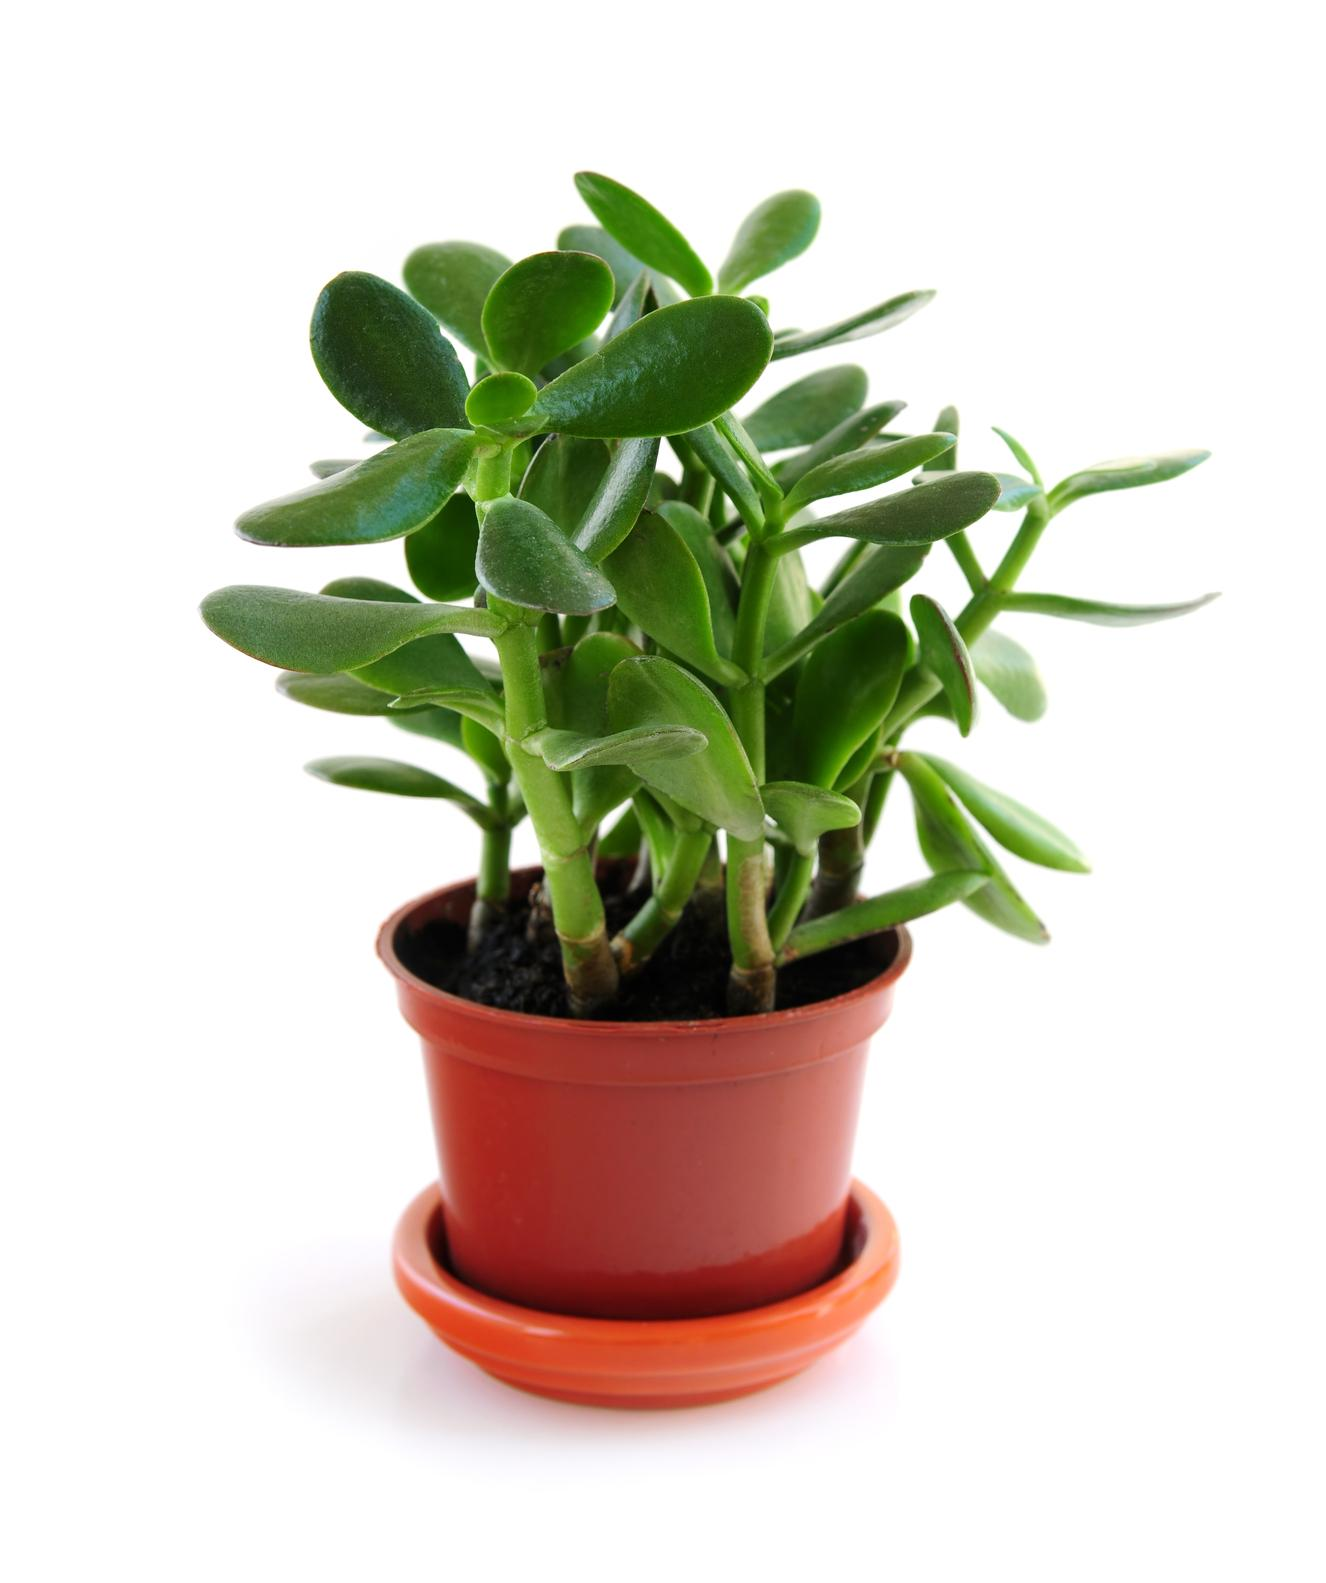flowerPot: (341, 854, 987, 1429)
